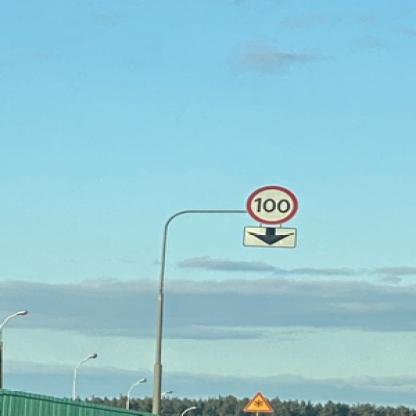Speed Limit 100: (247, 186, 302, 226)
